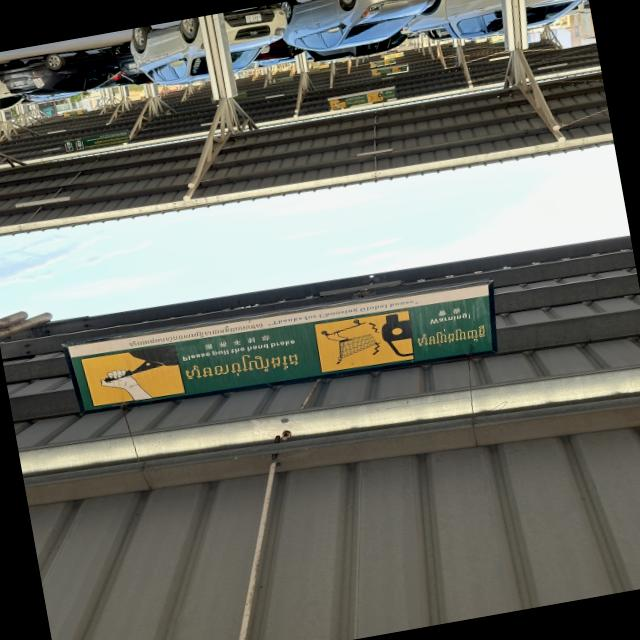Yolov11_80vkh: (180, 346, 307, 384), (411, 315, 493, 352)
